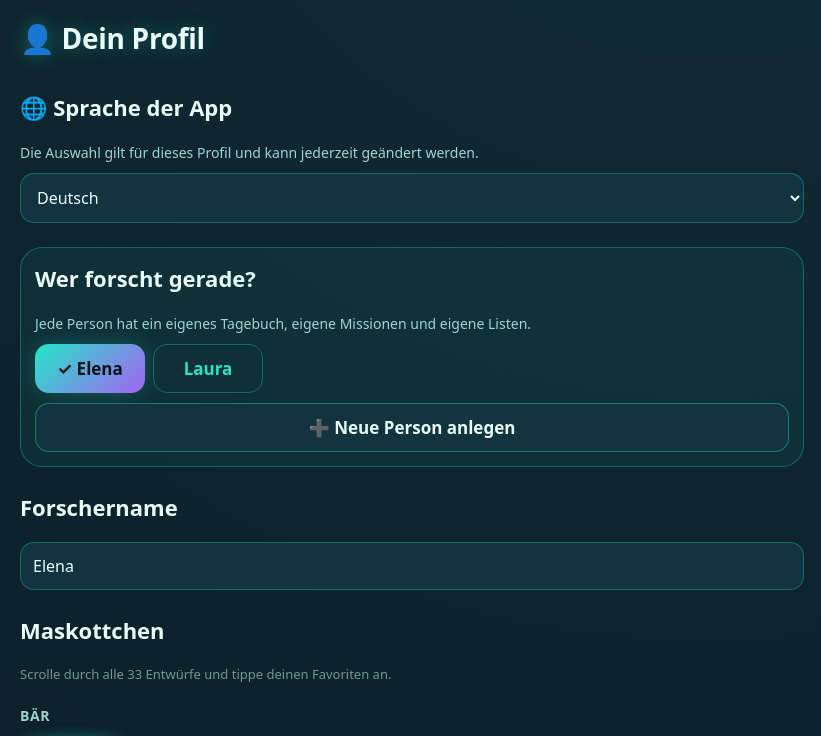
Test: ProfilePage › wechselt zwischen getrennten Personenprofilen
Click the button "Laura" at (208, 368), box [153,344,263,393]
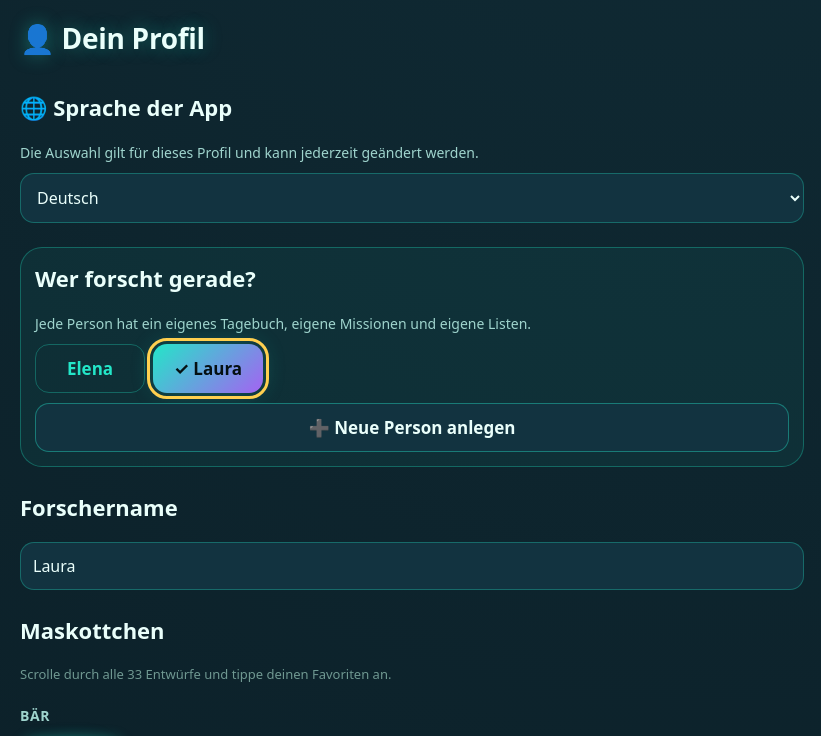
Expected: the field showing "Laura" is shown, [20,542,804,590]
Click the button "Elena" at (90, 368), box [35,344,145,393]
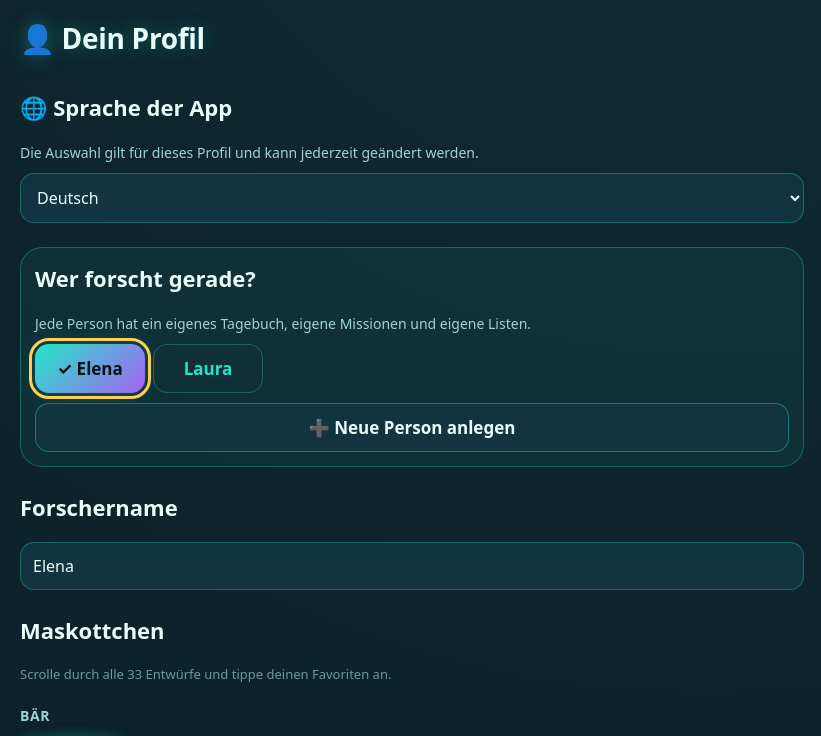
Expected: the field showing "Elena" is shown, [20,542,804,590]
